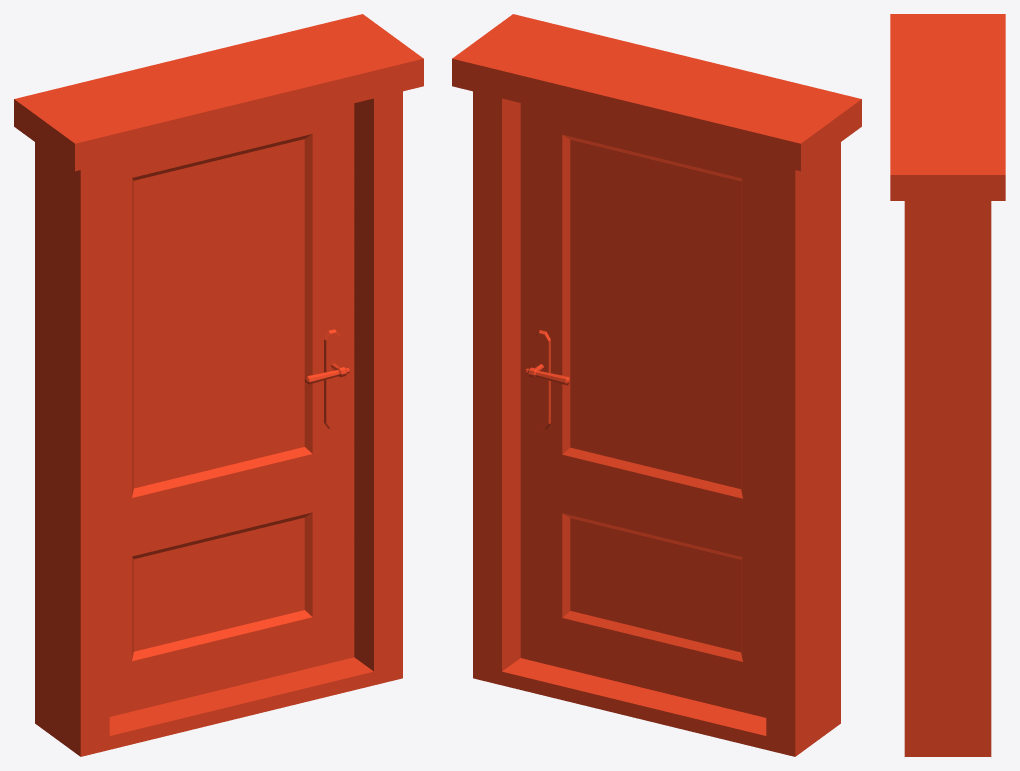
The model's file is SM_Door_Single_D_Regular_Survival.fbx.
3 renders of one model, left to right at view 1: azimuth 30°, elevation 25°; view 2: azimuth 150°, elevation 25°; view 3: azimuth 270°, elevation 25°, orthographic. The views are drawn at different scales.
Parts seen in each view (by area): view 1: door-single-d-regular-door-survival, door-single-d-regular-frame-survival; view 2: door-single-d-regular-door-survival, door-single-d-regular-frame-survival; view 3: door-single-d-regular-frame-survival.
Part boxes in pixels (<box>): door-single-d-regular-door-survival: <box>109,103,354,716</box>; door-single-d-regular-frame-survival: <box>14,14,423,756</box>; door-single-d-regular-door-survival: <box>520,103,766,717</box>; door-single-d-regular-frame-survival: <box>452,14,861,756</box>; door-single-d-regular-frame-survival: <box>890,14,1005,756</box>.
Size of the model in its own units: 1.32 by 2.25 by 0.4.
